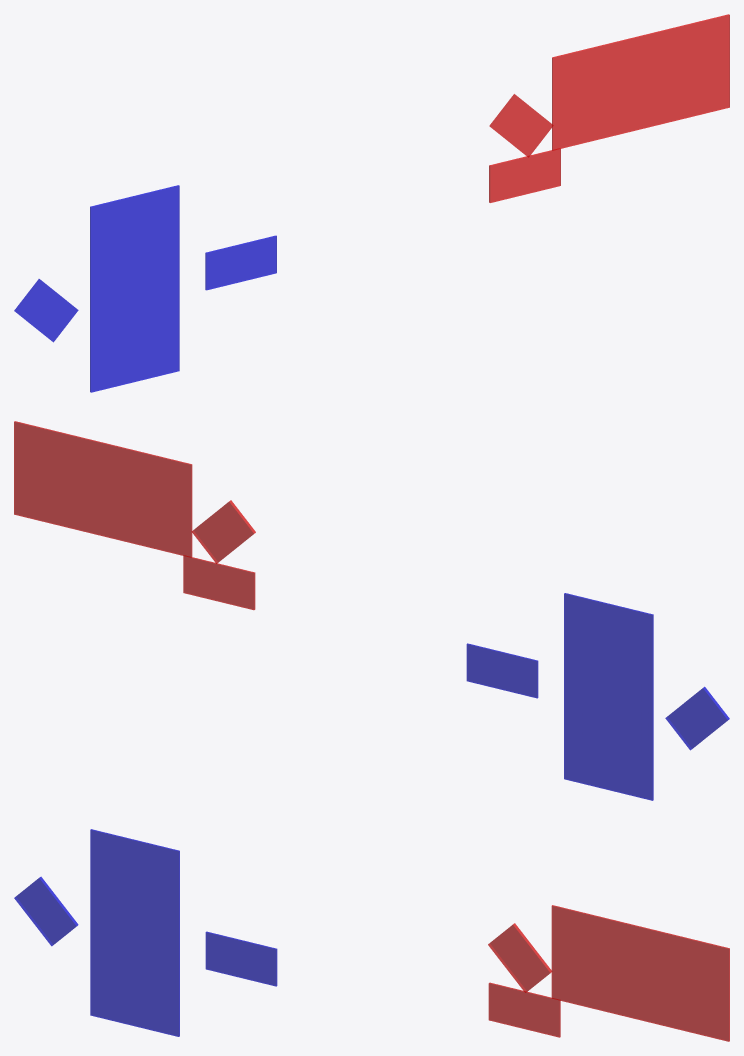
The model's file is pack.glb.
3 renders of one model, top to bottom at view 1: azimuth 30°, elevation 25°; view 2: azimuth 150°, elevation 25°; view 3: azimuth 330°, elevation 25°, orthographic.
Parts seen in each view (by area): view 1: shape_0, shape_6, shape_1, shape_4, shape_5, shape_2; view 2: shape_6, shape_0, shape_1, shape_4, shape_5, shape_2; view 3: shape_6, shape_0, shape_1, shape_4, shape_2, shape_5.
Part boxes in pixels (left/top/right/bottom): shape_0: left=90, top=185, right=179, bottom=392; shape_6: left=552, top=14, right=729, bottom=150; shape_1: left=205, top=235, right=276, bottom=290; shape_4: left=489, top=148, right=560, bottom=202; shape_5: left=489, top=94, right=553, bottom=157; shape_2: left=14, top=279, right=78, bottom=342; shape_6: left=14, top=421, right=192, bottom=557; shape_0: left=564, top=593, right=653, bottom=800; shape_1: left=466, top=643, right=538, bottom=698; shape_4: left=183, top=555, right=255, bottom=610; shape_5: left=191, top=500, right=255, bottom=563; shape_2: left=665, top=686, right=729, bottom=750; shape_6: left=551, top=905, right=729, bottom=1041; shape_0: left=90, top=829, right=179, bottom=1036; shape_1: left=205, top=931, right=277, bottom=986; shape_4: left=488, top=982, right=560, bottom=1037; shape_2: left=14, top=876, right=78, bottom=946; shape_5: left=488, top=923, right=551, bottom=992.
Bounding box in the file's own units: 4031 × 1200 × 30.
